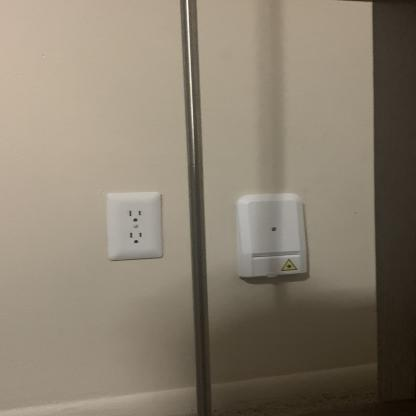OUTLET: (106, 192, 166, 260)
